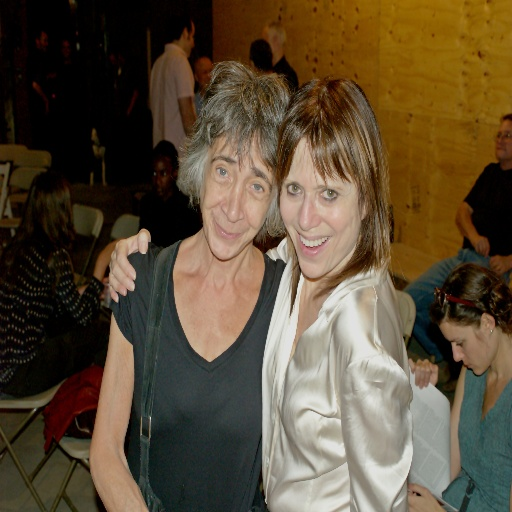hand: (87, 226, 145, 312), (406, 485, 446, 511), (407, 358, 439, 389), (488, 256, 510, 277), (472, 236, 490, 257)
